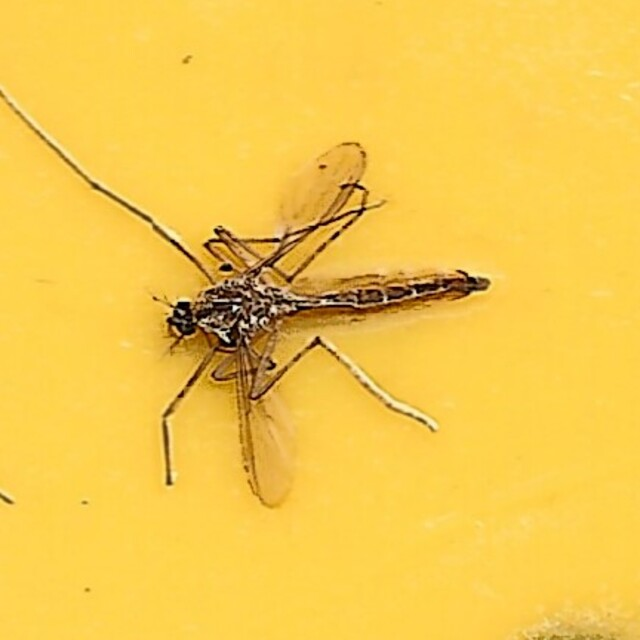Nematocera: (148, 139, 492, 501)
